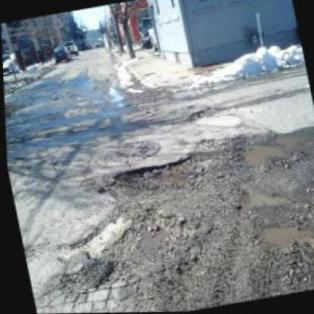Hueco: (89, 199, 199, 285), (101, 150, 200, 202), (225, 126, 312, 174), (251, 213, 313, 256), (230, 172, 289, 215), (184, 106, 227, 123)
